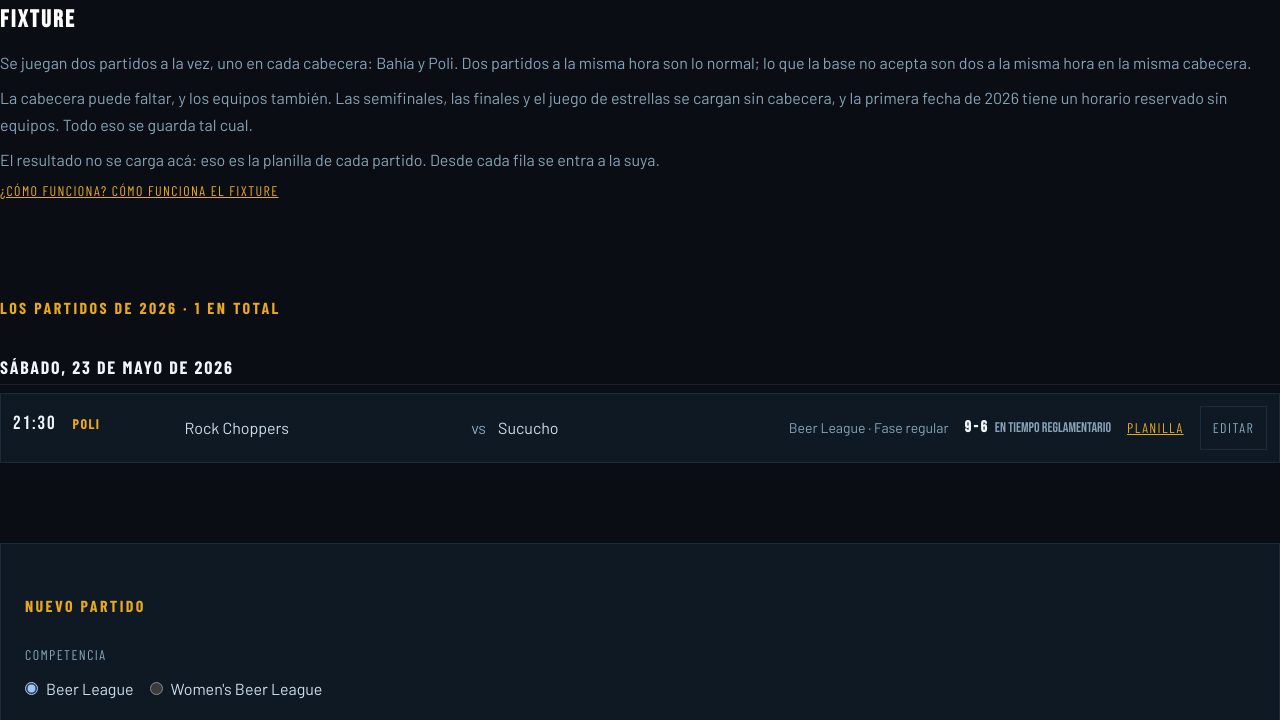
FixtureScreen › lets an edit be abandoned
Click the button with aria-label "Editar el partido de Sábado, 23 de mayo de 2026 a las 21:30".
click(1233, 428)  # box [1200,406,1267,450]
(page scrolled)
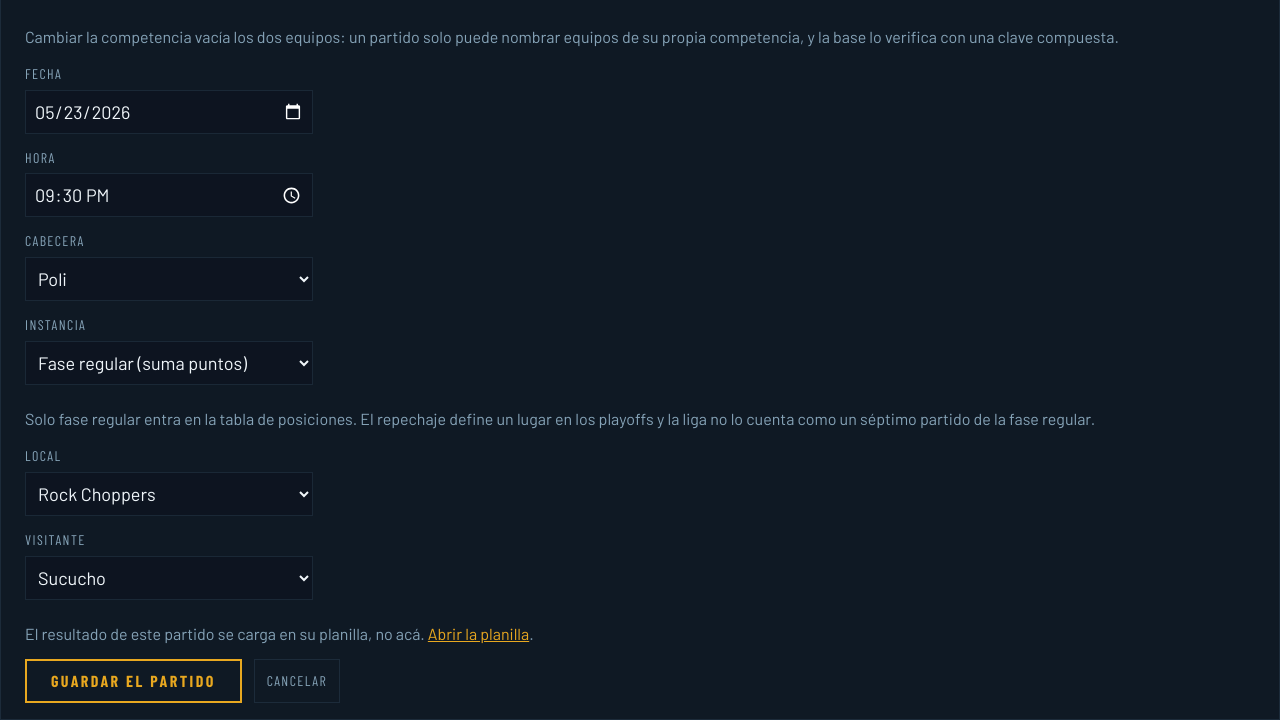
Click the button "Cancelar".
click(297, 681)  # box [254,659,340,703]
(page scrolled)
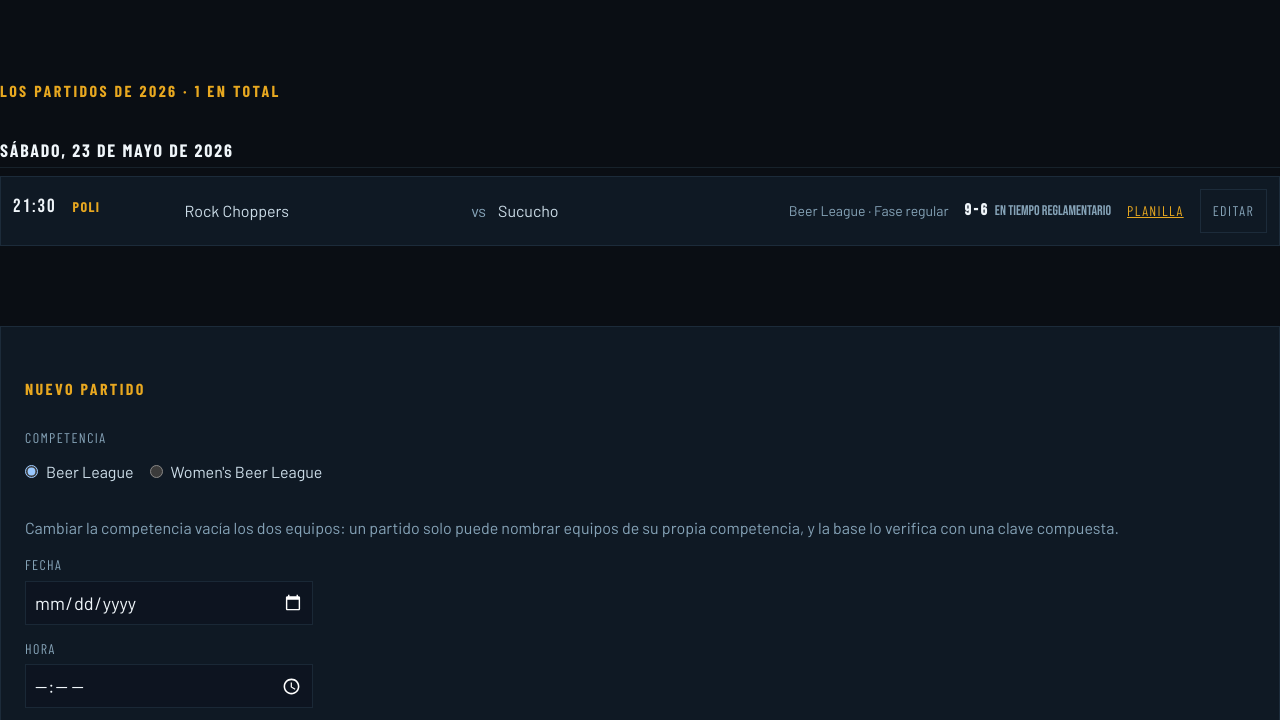
Now the date field labelled "Fecha" is empty, box [25,580,313,624]
Now the heading "Nuevo partido" is shown, box [25,374,146,402]
